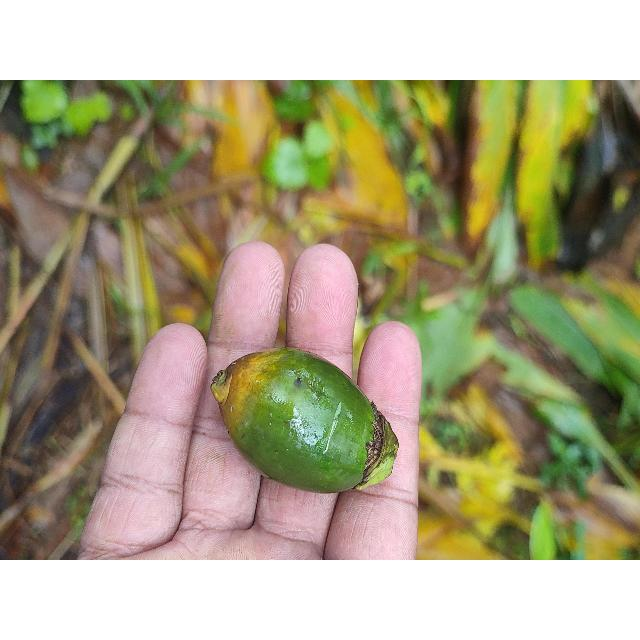good: (208, 349, 398, 496)
